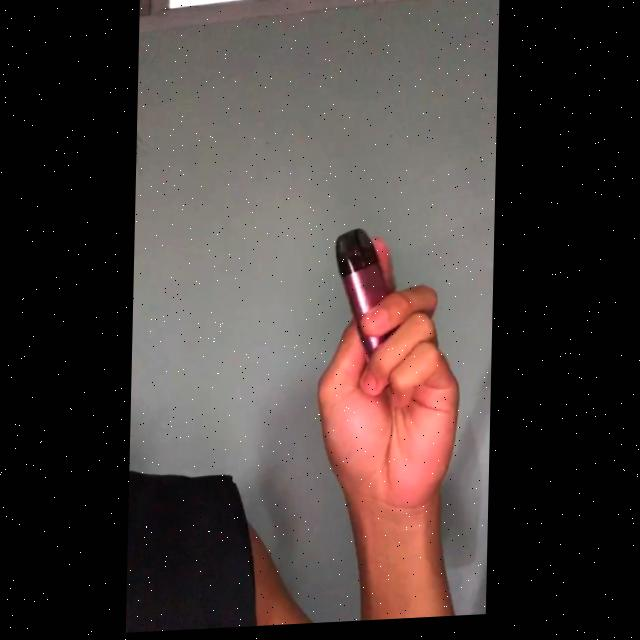vape: (335, 230, 392, 364)
